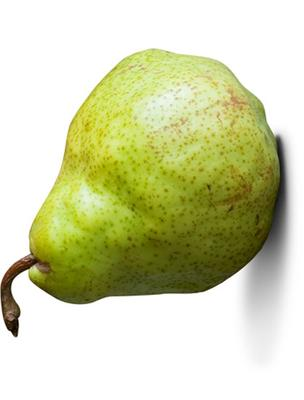pear: (0, 0, 304, 400)
